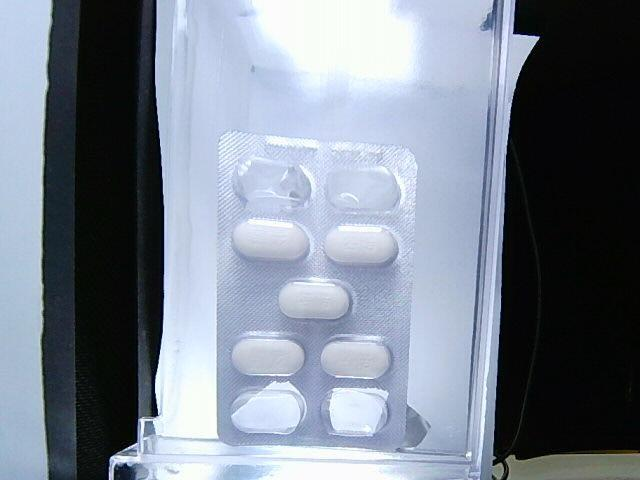Light Front: (215, 131, 419, 454)
No Pill Front: (233, 156, 315, 209), (231, 381, 306, 434), (324, 165, 401, 213), (321, 388, 388, 436)
Pill Front: (233, 218, 310, 262), (231, 331, 304, 376), (324, 225, 399, 266), (320, 335, 391, 378), (279, 281, 350, 317)
